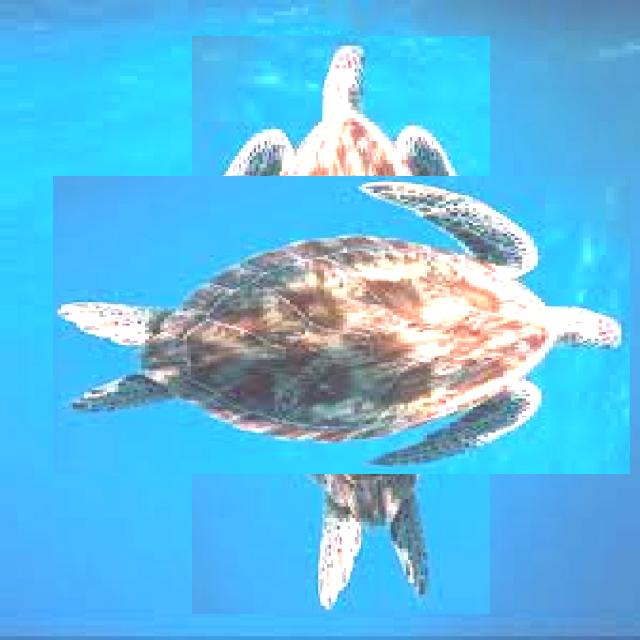Sea turtle: (122, 106, 560, 544)
